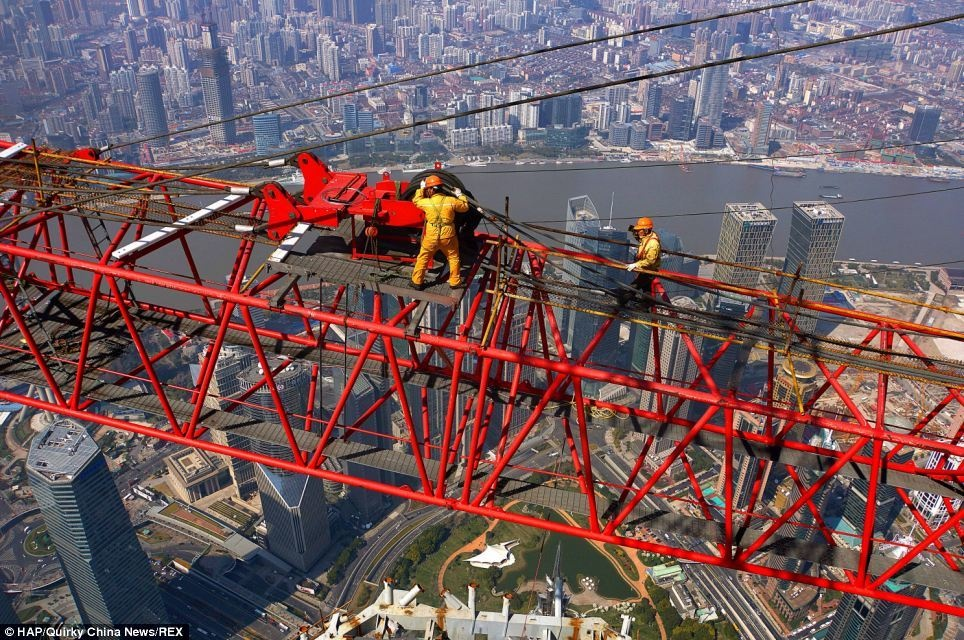yellow: (631, 214, 653, 240), (421, 175, 443, 197)
